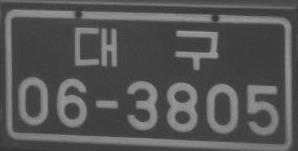0: (206, 82, 239, 135), (17, 74, 49, 127)
3: (125, 79, 158, 131)
5: (246, 83, 279, 136)
6: (55, 77, 88, 128)
8: (165, 81, 199, 132)
대구_D: (73, 25, 220, 69)
